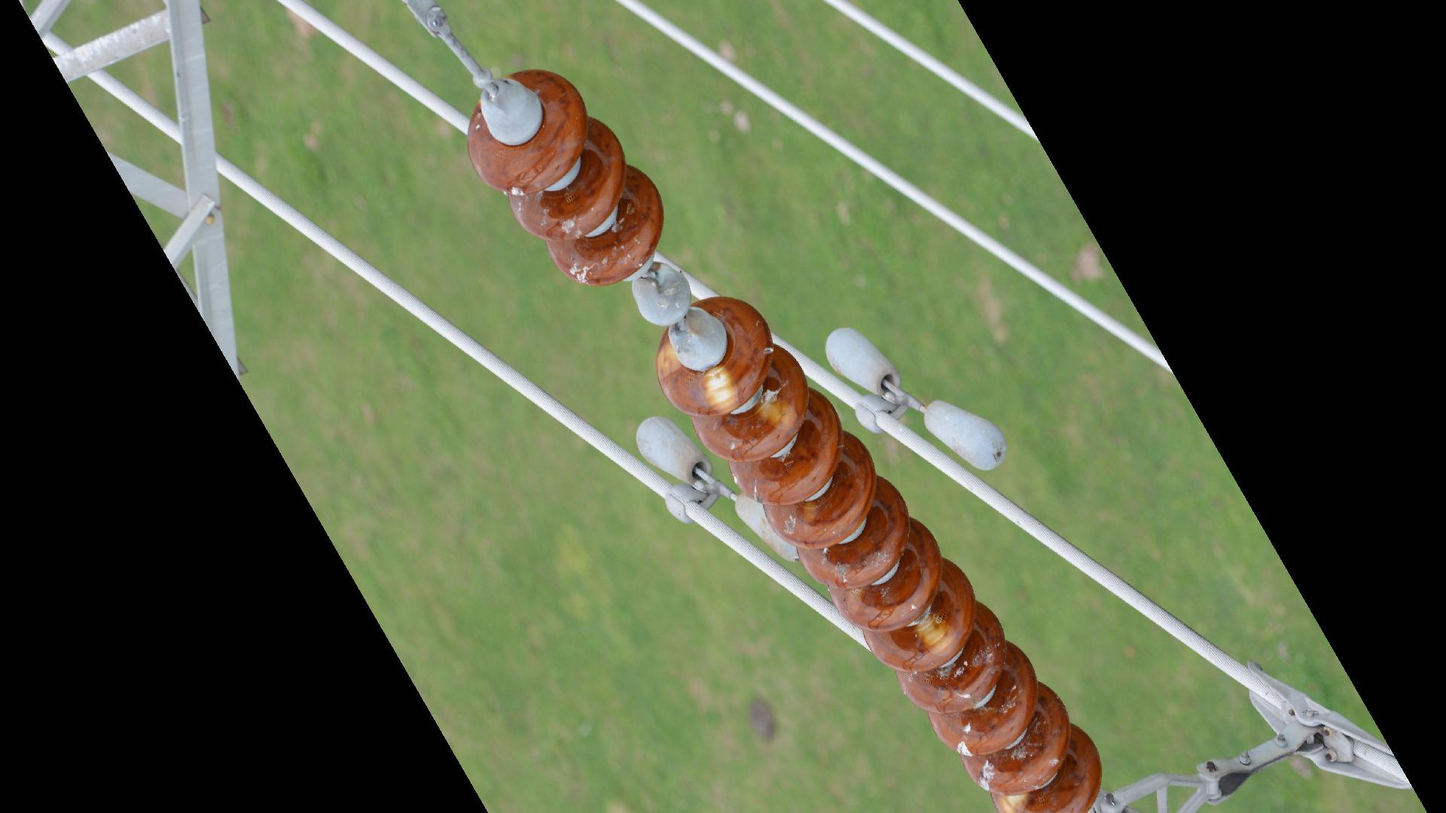insulator: (648, 293, 1107, 813), (463, 64, 670, 292)
insulator_flashover: (694, 361, 741, 418), (754, 388, 802, 433), (914, 611, 959, 657), (653, 337, 682, 383), (990, 789, 1030, 813)
